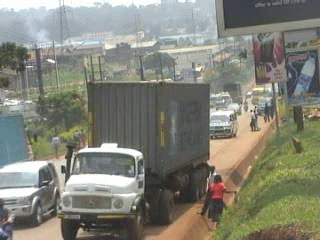Car: (0, 160, 64, 225), (226, 102, 243, 114)
Motorcycle: (0, 194, 22, 236), (242, 97, 250, 112)
